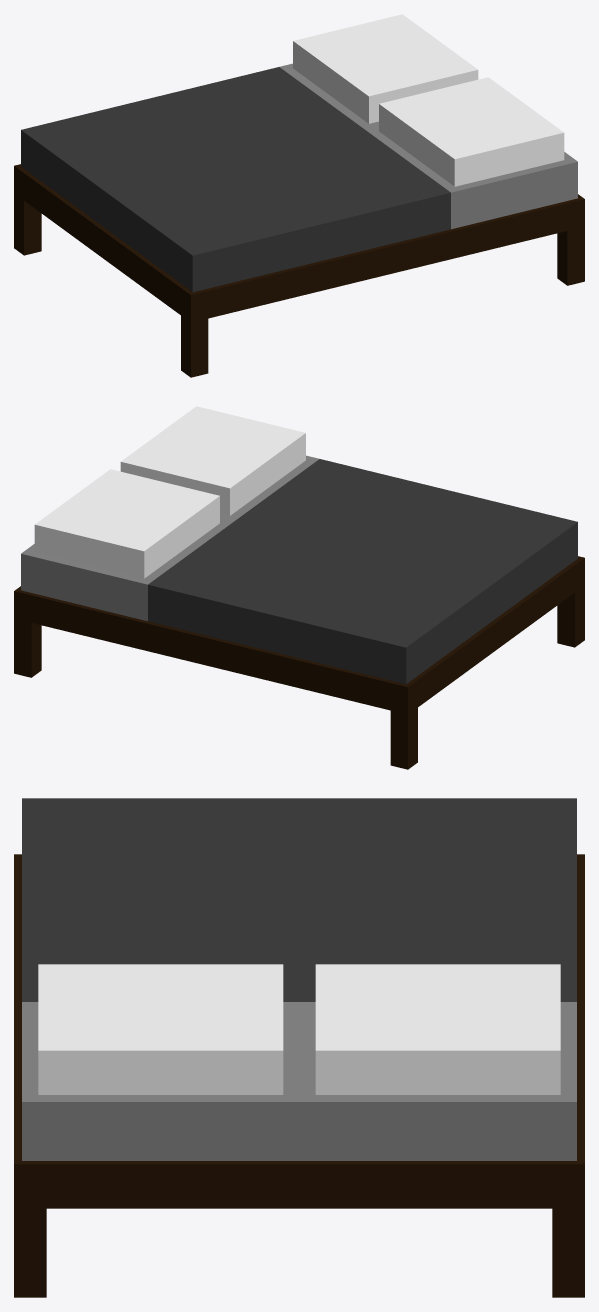
File: bed40.obj
The picture shows the model from 3 angles, top to bottom: view 1: azimuth 30°, elevation 25°; view 2: azimuth 150°, elevation 25°; view 3: azimuth 270°, elevation 25°; orthographic projection. The views are drawn at different scales.
Bounding box in the file's own units: 9 × 3.2 × 7.
Materials: 1 (1 with a texture image).
